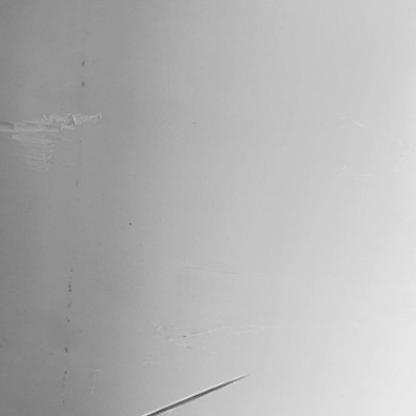sunshang: (1, 109, 100, 172), (141, 369, 248, 416)
